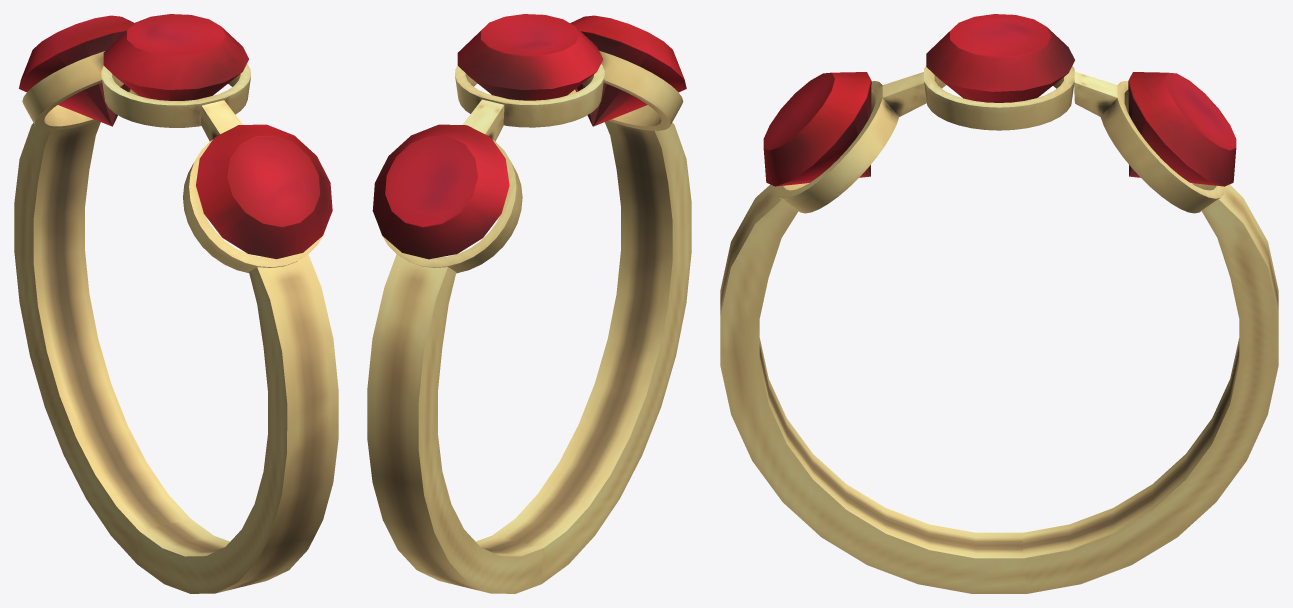
Rendered from SM_Ring_B_Gold.fbx.
The picture shows the model from 3 angles, left to right: view 1: azimuth 30°, elevation 25°; view 2: azimuth 150°, elevation 25°; view 3: azimuth 270°, elevation 25°; orthographic projection. The views are drawn at different scales.
Visible parts, largest first — view 1: SM_Ring_B_Gold_LOD0; view 2: SM_Ring_B_Gold_LOD0; view 3: SM_Ring_B_Gold_LOD0.
Part boxes in pixels (box(x1,y1,x2,y2)): SM_Ring_B_Gold_LOD0: box(14, 14, 338, 593); SM_Ring_B_Gold_LOD0: box(367, 14, 691, 593); SM_Ring_B_Gold_LOD0: box(720, 14, 1278, 593).
Size of the model in its own units: 0.8258 by 3 by 3.23.
2 materials, 2 textured.
